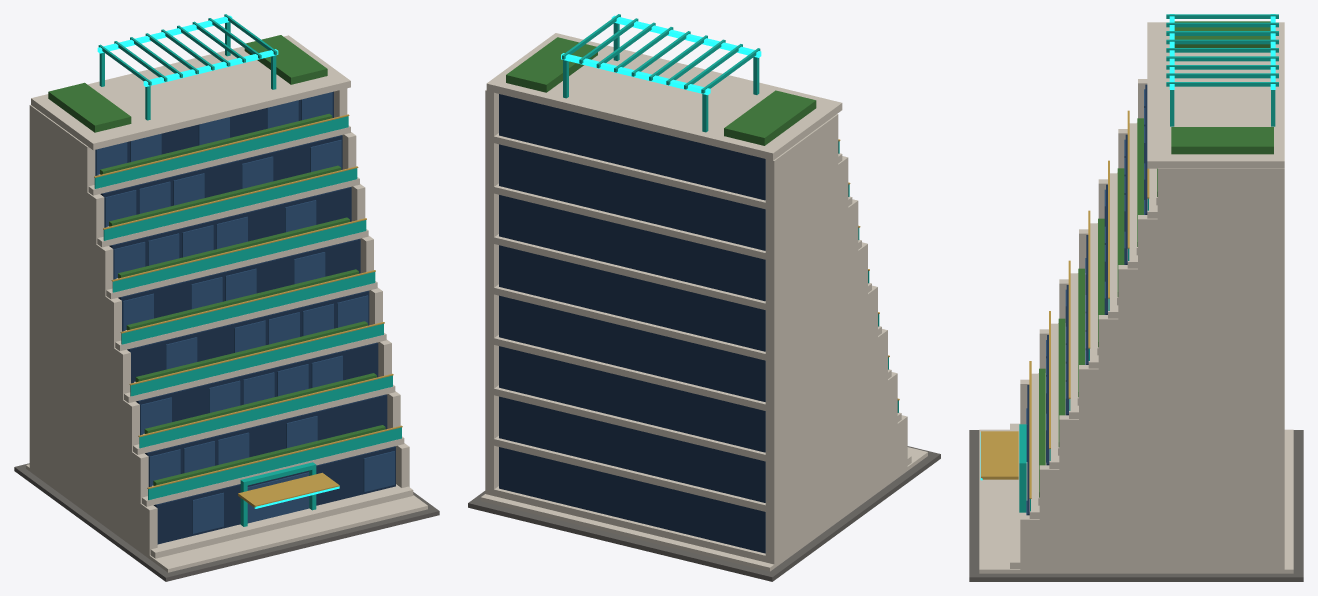
The model's file is hq-maq.glb.
3 renders of one model, left to right at view 1: azimuth 30°, elevation 25°; view 2: azimuth 150°, elevation 25°; view 3: azimuth 270°, elevation 25°, orthographic. The views are drawn at different scales.
Visible parts, largest first — view 1: hq-maq; view 2: hq-maq; view 3: hq-maq.
Boxes of the visible parts, bbox=[...] form: hq-maq: bbox=[14, 14, 439, 581]; hq-maq: bbox=[468, 14, 940, 581]; hq-maq: bbox=[969, 14, 1303, 581].
Bounding box in the file's own units: 24 × 34.88 × 23.
